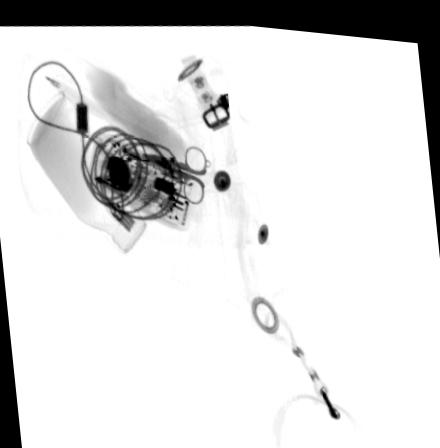Scissors: (143, 141, 208, 200)
